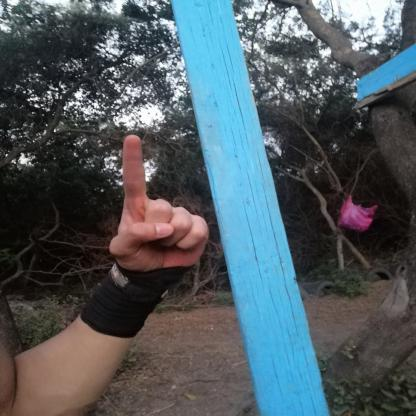BAA: (87, 125, 227, 280)
